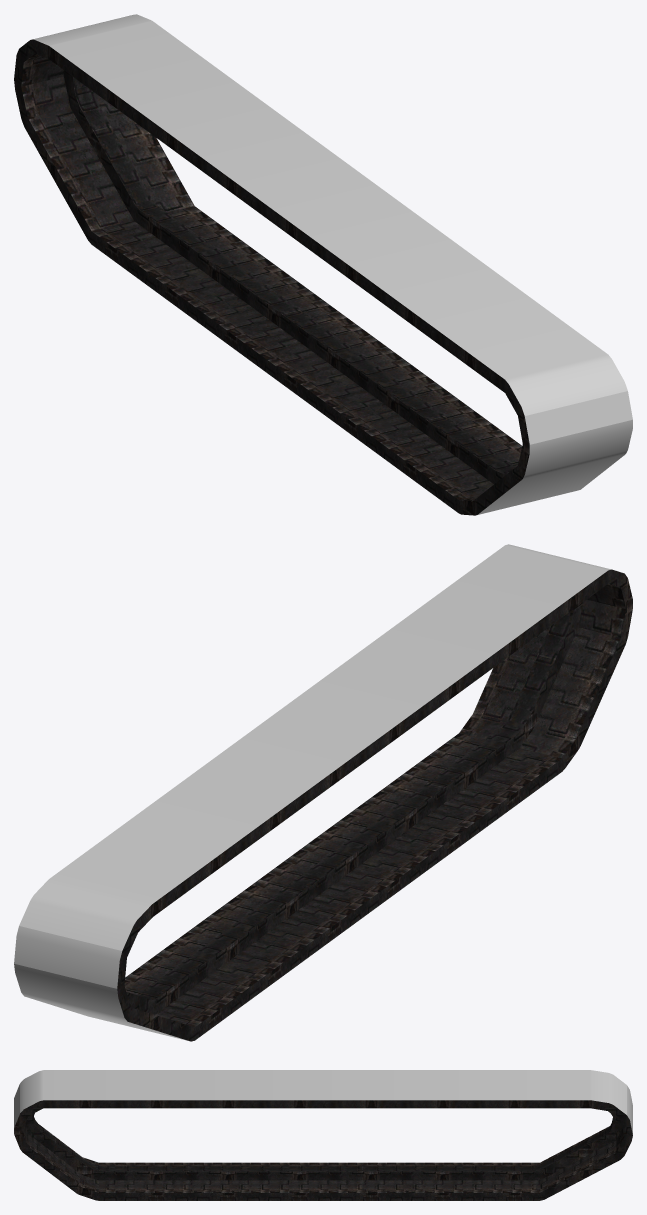
The model's file is Tank_T-90_solid_truck.02.dae.
3 views of the same model, one above another, from view 1: azimuth 30°, elevation 25°; view 2: azimuth 150°, elevation 25°; view 3: azimuth 270°, elevation 25° (orthographic). The views are drawn at different scales.
Parts seen in each view (by area): view 1: group_0 (×4); view 2: group_0 (×4); view 3: group_0 (×3).
Part boxes in pixels (x1,y1,x2,y2): group_0 (×4): [14, 14, 632, 515]; group_0 (×4): [14, 544, 632, 1041]; group_0 (×3): [14, 1070, 632, 1200].
Bounding box in the file's own units: 28.74 × 249 × 44.59.
